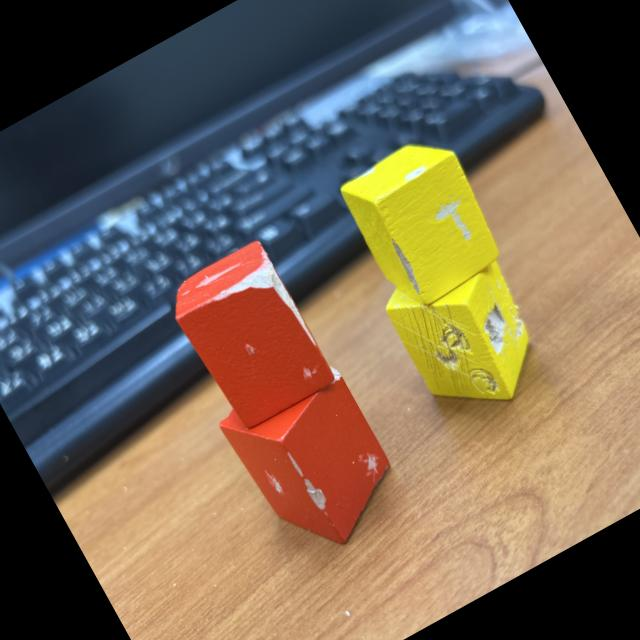broken: (211, 348, 414, 570), (372, 228, 560, 433), (161, 238, 339, 436), (333, 126, 514, 318)
